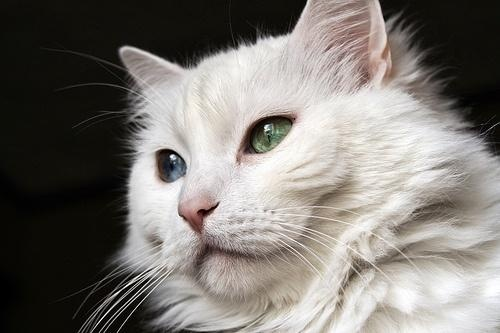cat: (71, 1, 500, 333)
